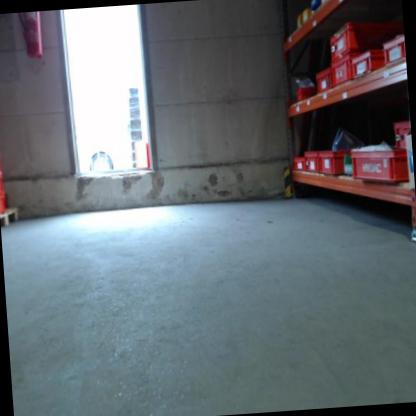pallet: (0, 207, 21, 230)
small_load_carrier: (327, 22, 404, 63), (347, 143, 410, 188), (329, 53, 365, 91), (316, 145, 351, 177), (354, 48, 385, 81), (382, 35, 406, 72), (390, 117, 412, 148), (314, 67, 334, 98), (302, 149, 319, 176), (296, 85, 318, 105), (294, 154, 305, 173), (0, 196, 8, 214), (0, 178, 5, 198), (0, 163, 3, 176)
